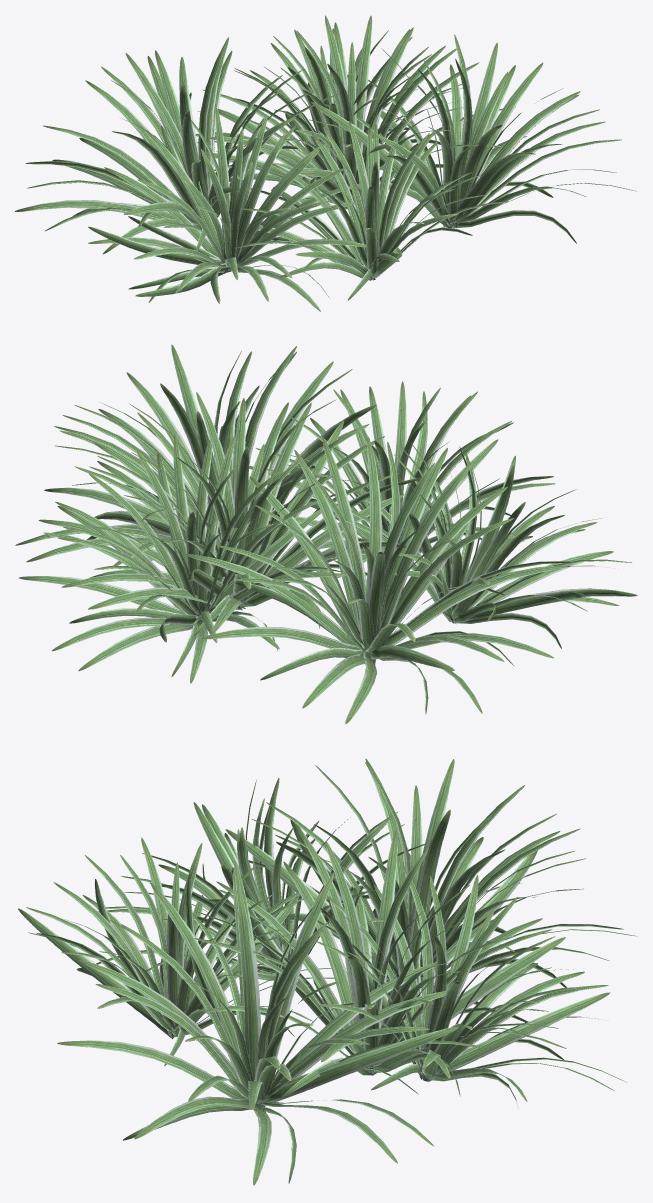
File: kichijousou2_nocolor.fbx
3 views of the same model, one above another, from view 1: azimuth 30°, elevation 25°; view 2: azimuth 150°, elevation 25°; view 3: azimuth 270°, elevation 25° (orthographic). The views are drawn at different scales.
Visible parts, largest first — view 1: 6842.005, 6842.004, 6842.006, 6842.001, 6842.002, 6842.003; view 2: 6842.006, 6842.003, 6842.002, 6842.004, 6842.005, 6842.001; view 3: 6842.004, 6842.002, 6842.006, 6842.003, 6842.001, 6842.005.
Part boxes in pixels (x1=…): 6842.005: x1=88, y1=107, x2=366, y2=311; 6842.004: x1=309, y1=34, x2=636, y2=243; 6842.006: x1=14, y1=37, x2=338, y2=254; 6842.001: x1=235, y1=121, x2=509, y2=300; 6842.002: x1=195, y1=15, x2=515, y2=212; 6842.003: x1=197, y1=28, x2=462, y2=190; 6842.006: x1=184, y1=436, x2=569, y2=724; 6842.003: x1=19, y1=435, x2=346, y2=683; 6842.002: x1=38, y1=392, x2=421, y2=636; 6842.004: x1=15, y1=345, x2=376, y2=565; 6842.005: x1=333, y1=443, x2=637, y2=648; 6842.001: x1=249, y1=381, x2=555, y2=577; 6842.004: x1=57, y1=862, x2=482, y2=1185; 6842.002: x1=194, y1=830, x2=575, y2=1097; 6842.006: x1=225, y1=758, x2=637, y2=993; 6842.003: x1=316, y1=866, x2=626, y2=1106; 6842.001: x1=18, y1=837, x2=346, y2=1066; 6842.005: x1=96, y1=778, x2=424, y2=980.
Size of the model in its own units: 82.13 by 28.63 by 70.06.
Materials: 1 (1 with a texture image).
